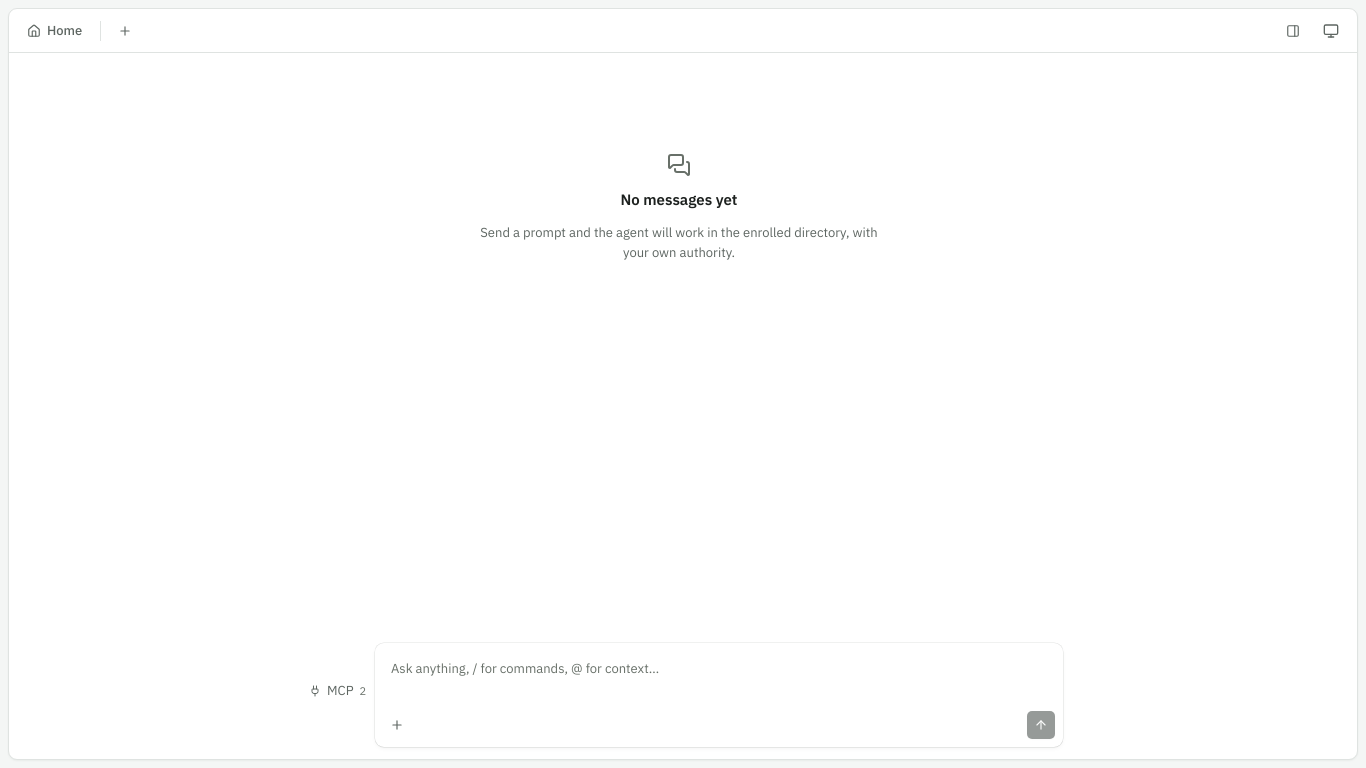
Test: SessionView › keeps only deduplicated MCP integrations outside the composer card
This screenshot has width=1366, height=768.
Expected: the field labelled "2 MCP integrations" is not shown
Click the button with aria-label "2 MCP integrations" at x=338, y=691, box [303,677,372,705]
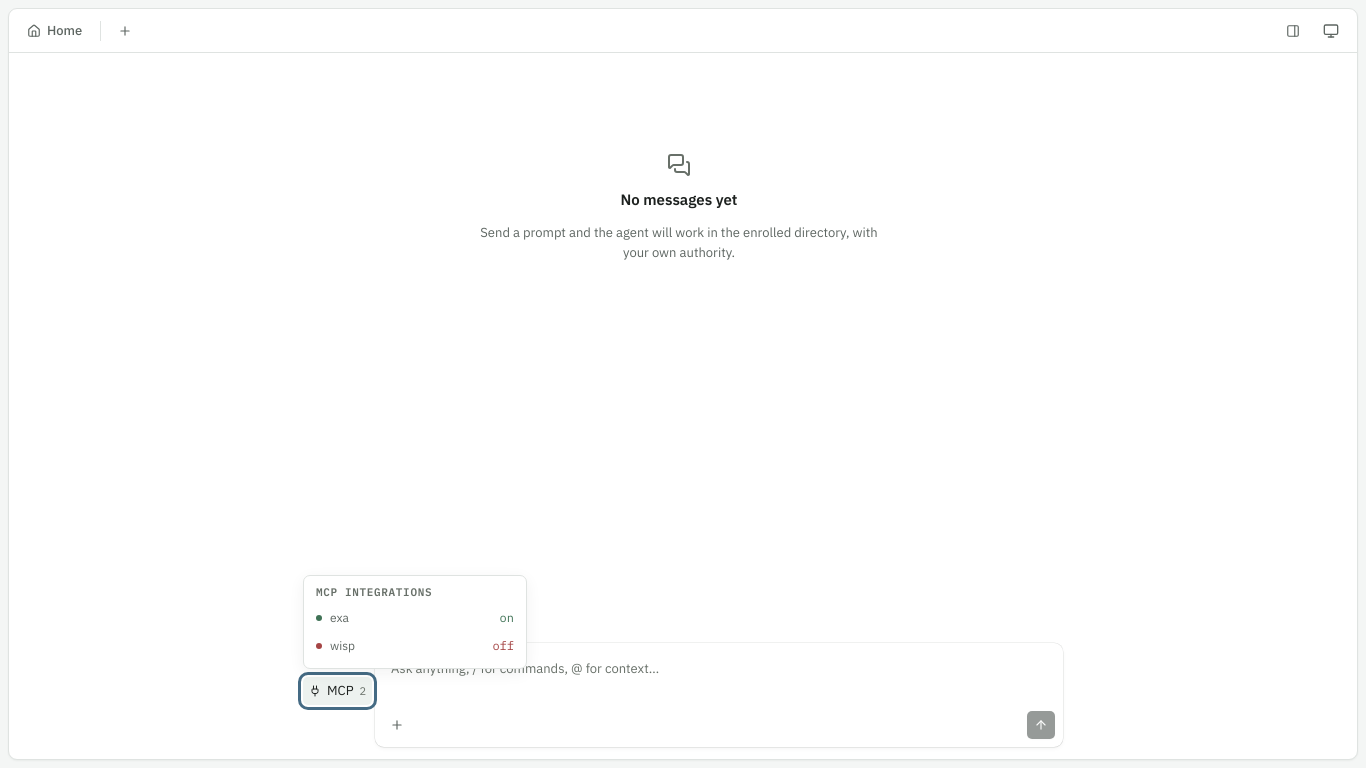
Result: the text "exa" is shown at [330,610,349,625]
Result: the text "wisp" is shown at [330,638,355,653]
Result: the option with aria-label "exa, on" is shown at [316,610,514,625]
